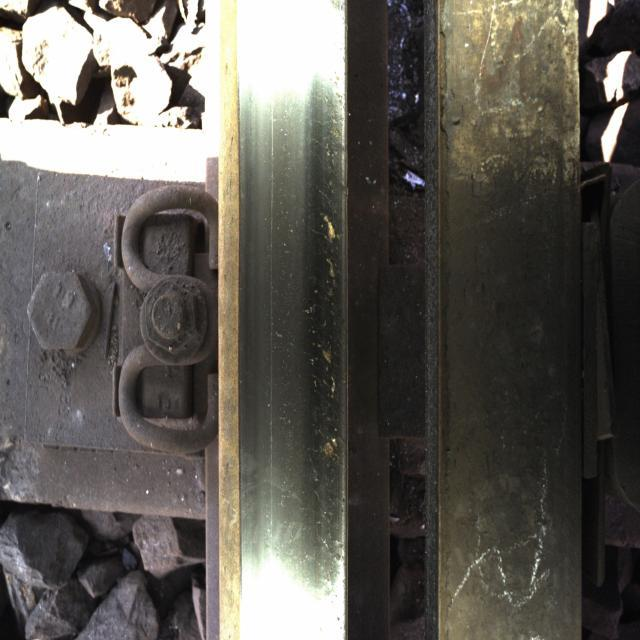crack: (444, 8, 575, 624)
scar: (294, 74, 345, 595)
